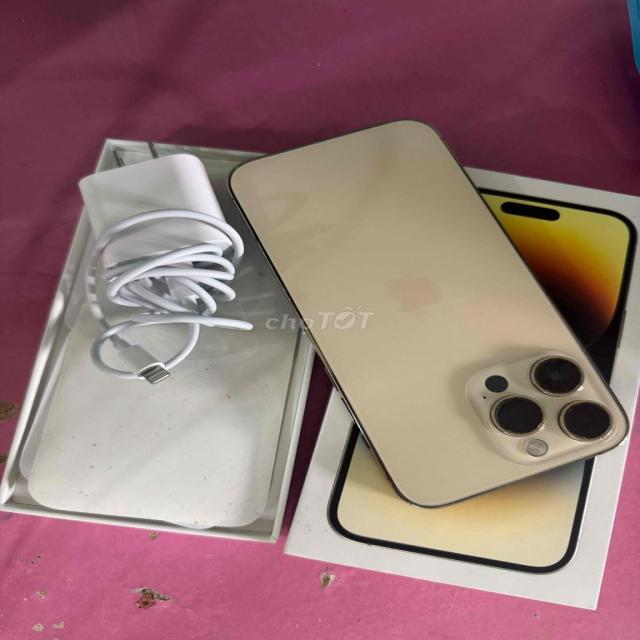gen_14: (245, 111, 630, 503)
